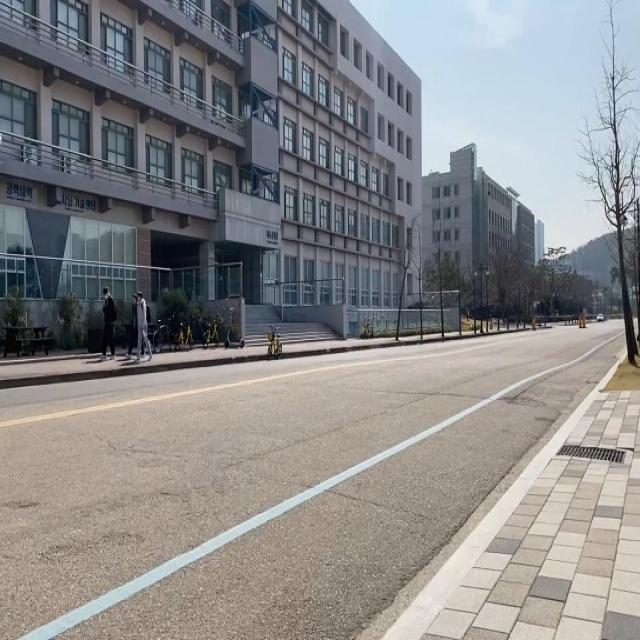sidewalk: (426, 391, 640, 639)
